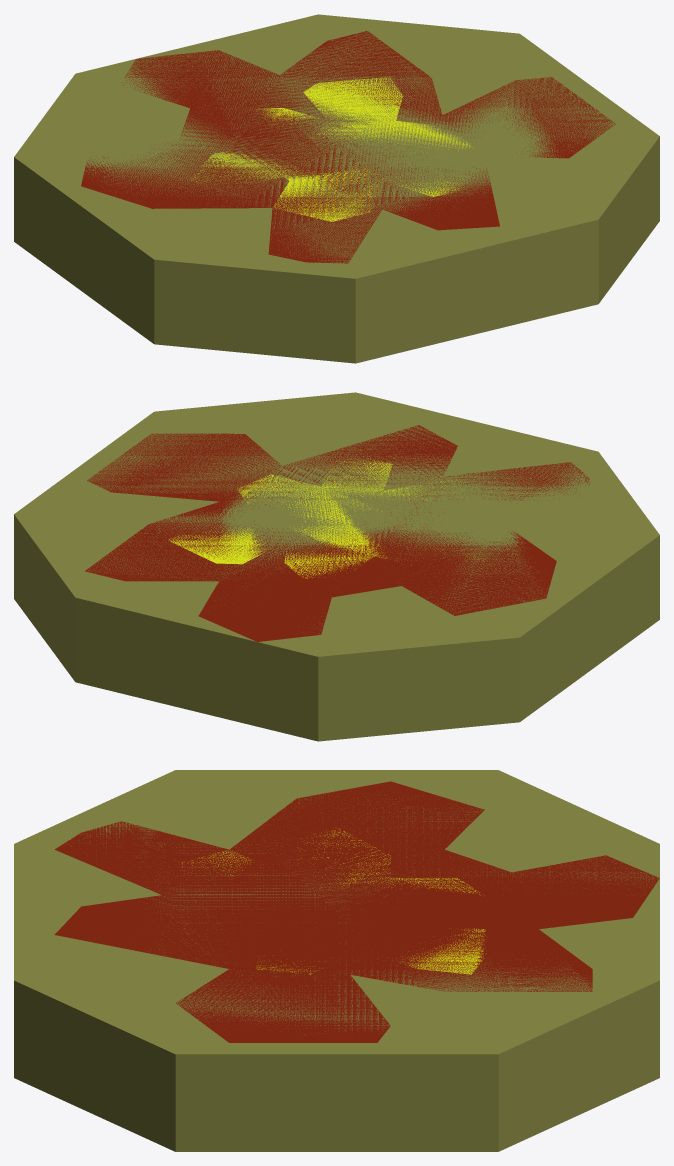
File: inv_uncooked_pizza.obj
The picture shows the model from 3 angles, top to bottom: view 1: azimuth 30°, elevation 25°; view 2: azimuth 150°, elevation 25°; view 3: azimuth 270°, elevation 25°; orthographic projection. The views are drawn at different scales.
Size of the model in its own units: 0.3906 by 0.0625 by 0.375.
